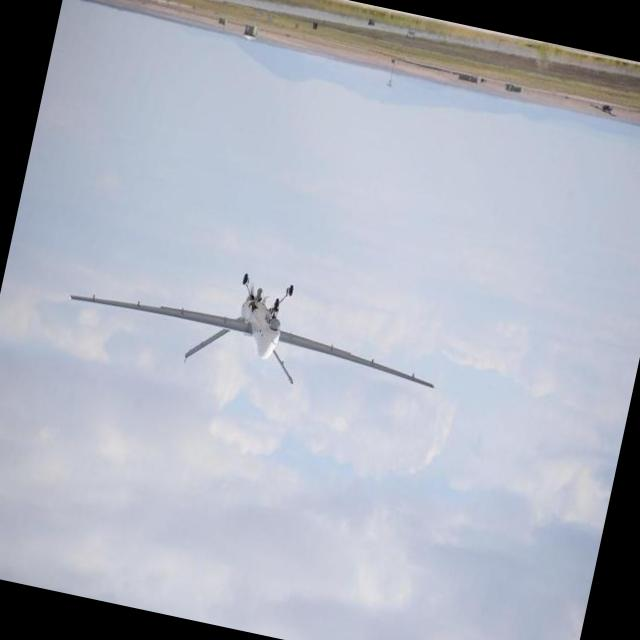UAV: (95, 249, 449, 431)
